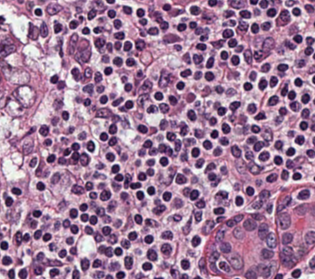nucleus: (75, 47, 90, 62), (277, 196, 290, 211), (68, 33, 77, 54), (279, 213, 290, 229), (262, 37, 273, 50), (249, 161, 260, 174), (159, 71, 168, 86), (140, 80, 151, 92), (96, 108, 110, 117), (79, 153, 89, 165), (164, 34, 178, 42), (254, 50, 264, 61), (295, 205, 306, 215), (263, 128, 272, 140), (231, 145, 240, 157), (71, 185, 83, 194), (297, 190, 309, 199), (153, 205, 165, 214), (100, 190, 110, 200), (252, 198, 262, 208), (138, 94, 147, 105), (244, 49, 251, 63), (71, 68, 79, 80), (124, 174, 131, 187), (268, 96, 278, 105), (39, 125, 48, 135), (259, 151, 269, 160), (176, 174, 186, 183), (259, 190, 269, 199), (222, 29, 233, 37), (95, 38, 104, 47), (193, 54, 202, 63), (83, 84, 92, 93), (230, 101, 239, 110), (159, 103, 168, 112), (254, 141, 263, 150), (189, 190, 198, 199), (136, 39, 144, 49), (285, 41, 295, 49), (231, 55, 239, 65), (112, 98, 122, 106), (54, 99, 62, 109), (247, 103, 255, 113), (51, 173, 59, 183), (266, 174, 276, 182), (180, 124, 187, 135), (113, 57, 122, 65), (301, 94, 309, 103), (290, 102, 299, 110), (138, 125, 147, 133), (194, 129, 203, 137), (203, 140, 211, 149), (245, 151, 253, 160), (206, 163, 215, 171), (107, 202, 115, 211), (114, 32, 124, 39), (212, 40, 222, 47), (183, 53, 190, 63), (206, 57, 213, 67), (84, 68, 91, 78), (259, 79, 266, 89), (188, 110, 195, 120), (255, 112, 265, 119), (160, 119, 167, 129), (222, 123, 229, 133), (109, 124, 116, 134), (184, 138, 194, 145), (87, 141, 94, 151), (217, 191, 227, 198), (214, 207, 224, 214), (194, 211, 201, 221), (126, 58, 134, 66), (261, 63, 269, 71), (205, 72, 213, 80), (50, 75, 58, 83), (294, 78, 302, 86), (176, 81, 184, 89), (186, 93, 194, 101), (167, 132, 175, 140), (295, 136, 303, 144), (191, 148, 199, 156), (47, 154, 55, 162), (274, 156, 282, 164), (163, 192, 171, 200), (174, 199, 182, 207), (96, 207, 104, 215), (124, 41, 131, 50), (196, 43, 205, 50), (181, 69, 190, 76), (249, 71, 256, 80), (270, 77, 277, 86), (147, 105, 156, 112), (247, 136, 256, 143), (72, 152, 79, 161), (29, 157, 36, 166), (281, 170, 288, 179), (70, 209, 77, 218), (134, 214, 141, 223), (95, 72, 101, 82), (251, 214, 261, 220), (228, 39, 236, 46), (305, 46, 312, 54), (296, 60, 304, 67), (57, 81, 64, 89), (244, 82, 251, 90), (215, 86, 223, 93), (288, 91, 295, 99), (154, 92, 162, 99), (100, 95, 107, 103), (169, 96, 176, 104), (218, 107, 225, 115), (301, 109, 308, 117), (209, 117, 216, 125), (300, 121, 307, 129), (251, 125, 259, 132), (100, 132, 107, 140), (109, 137, 116, 145), (220, 138, 228, 145), (143, 140, 151, 147), (158, 144, 165, 152), (214, 147, 221, 155), (286, 148, 294, 155), (106, 153, 114, 160), (160, 157, 167, 165), (196, 159, 203, 167), (111, 165, 119, 172), (208, 173, 216, 180), (115, 174, 123, 181), (37, 182, 44, 190), (85, 182, 92, 190), (183, 187, 190, 195), (246, 187, 253, 195), (136, 191, 143, 199), (196, 200, 204, 207), (90, 216, 97, 224), (278, 64, 287, 70), (281, 86, 287, 95), (236, 196, 242, 205), (175, 140, 180, 150), (130, 183, 140, 188), (294, 35, 301, 42), (306, 37, 313, 44), (104, 67, 111, 74), (194, 71, 201, 78), (125, 101, 132, 108), (279, 107, 286, 114), (78, 132, 85, 139), (275, 141, 282, 148), (72, 143, 79, 150), (149, 148, 156, 155), (58, 157, 65, 164), (138, 173, 145, 180), (147, 187, 154, 194), (103, 215, 110, 222), (114, 41, 120, 49), (221, 51, 227, 59), (125, 83, 131, 91), (226, 89, 234, 95), (62, 111, 68, 119), (112, 115, 120, 121), (165, 147, 171, 155), (173, 215, 181, 221), (234, 215, 242, 221), (102, 55, 108, 62), (84, 98, 90, 105), (52, 117, 58, 124), (122, 119, 128, 126), (211, 130, 217, 137), (44, 139, 51, 145), (307, 150, 313, 157), (147, 159, 154, 165), (286, 160, 292, 167), (147, 168, 153, 175), (293, 173, 300, 179), (112, 183, 119, 189), (121, 192, 127, 199), (80, 204, 87, 210), (33, 210, 40, 216), (81, 214, 87, 221), (267, 204, 272, 212), (236, 45, 242, 51), (97, 86, 103, 92), (63, 149, 69, 155), (90, 192, 96, 198), (181, 153, 186, 160), (221, 166, 226, 173), (107, 43, 111, 51), (174, 45, 180, 50), (137, 70, 142, 76), (139, 149, 144, 155), (121, 76, 126, 81), (276, 118, 281, 123), (68, 127, 73, 132), (288, 131, 293, 136), (200, 36, 206, 40), (99, 183, 104, 187), (119, 107, 125, 110), (311, 124, 314, 130), (312, 76, 314, 83), (192, 178, 196, 181)
